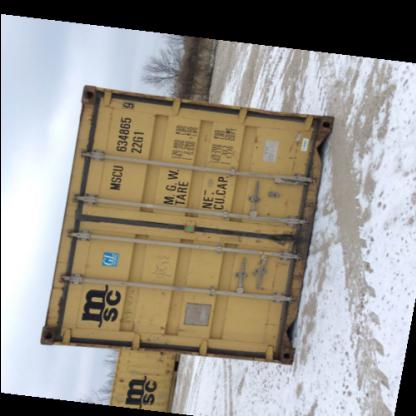Damage: (251, 224, 301, 258), (42, 282, 66, 346), (80, 87, 107, 139), (147, 249, 177, 284), (282, 129, 300, 170), (242, 125, 262, 154), (151, 320, 185, 336), (118, 288, 132, 324)
